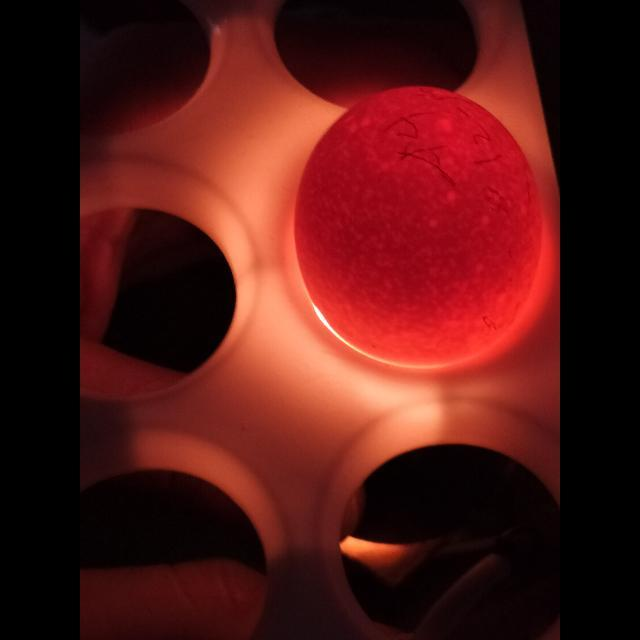Infertile: (287, 84, 559, 356)
